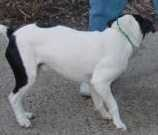dog: (1, 11, 130, 127)
